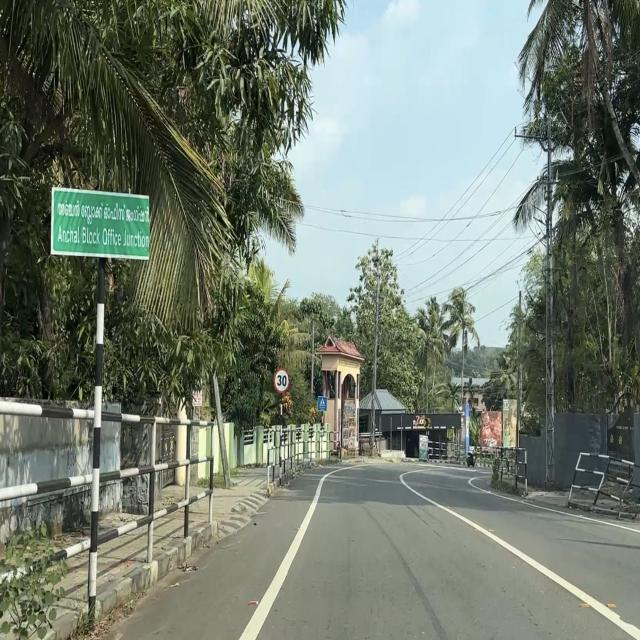GENERAL: (49, 185, 151, 260)
PEDESTRIAN_CROSSING: (318, 396, 328, 411)
SPEED_LIMIT_30: (273, 366, 290, 395)
TURN_RIGHT: (424, 418, 429, 427)
